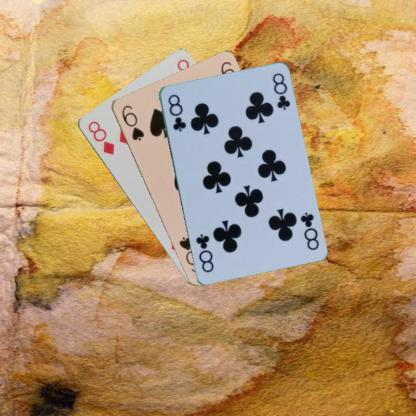6s: (118, 102, 146, 142)
8c: (297, 209, 320, 251), (165, 91, 187, 133)
8d: (85, 118, 115, 156)
